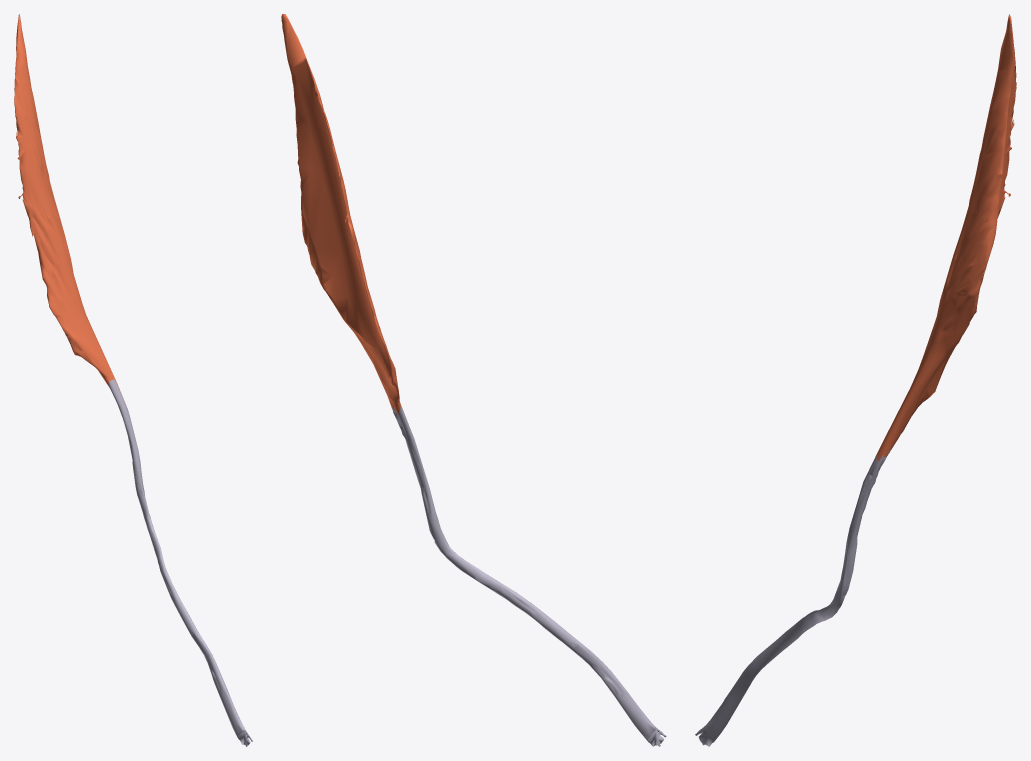
Rendered from Flexor_pollicis_longus.r_Generated_Mesh_From_X3D.494.glb.
3 renders of one model, left to right at view 1: azimuth 90°, elevation 25°; view 2: azimuth 150°, elevation 25°; view 3: azimuth 270°, elevation 25°, orthographic. The views are drawn at different scales.
Visible parts, largest first — view 1: Flexor_pollicis_longus.r_Generated_Mesh_From_X3D.494; view 2: Flexor_pollicis_longus.r_Generated_Mesh_From_X3D.494; view 3: Flexor_pollicis_longus.r_Generated_Mesh_From_X3D.494.
Part boxes in pixels (x1,y1,x2,y2): Flexor_pollicis_longus.r_Generated_Mesh_From_X3D.494: (14, 14, 252, 746); Flexor_pollicis_longus.r_Generated_Mesh_From_X3D.494: (281, 14, 666, 746); Flexor_pollicis_longus.r_Generated_Mesh_From_X3D.494: (695, 14, 1016, 746).
Bounding box in the file's own units: 0.0781 × 0.2381 × 0.0809.
